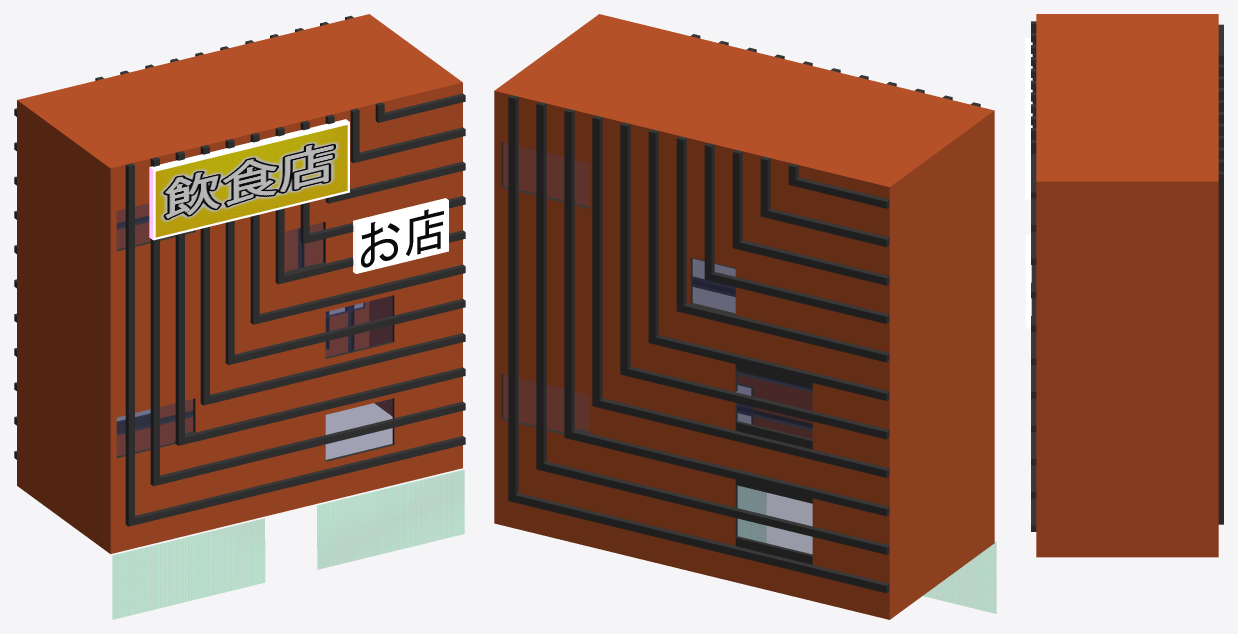
The model's file is orange2.glb.
3 views of the same model, side by side, from view 1: azimuth 30°, elevation 25°; view 2: azimuth 150°, elevation 25°; view 3: azimuth 270°, elevation 25° (orthographic). The views are drawn at different scales.
Parts seen in each view (by area): view 1: Text.002, Text.004; view 2: Text.002, Text.004; view 3: Text.002.
Boxes of the visible parts, bbox=[...] form: Text.002: bbox=[14, 14, 465, 553]; Text.004: bbox=[112, 470, 464, 619]; Text.002: bbox=[494, 14, 994, 619]; Text.004: bbox=[738, 486, 996, 613]; Text.002: bbox=[1025, 14, 1223, 557].
Size of what is drawn, in the model's own units: 16.27 by 19.86 by 8.16.
Materials: 8 (4 with a texture image).
